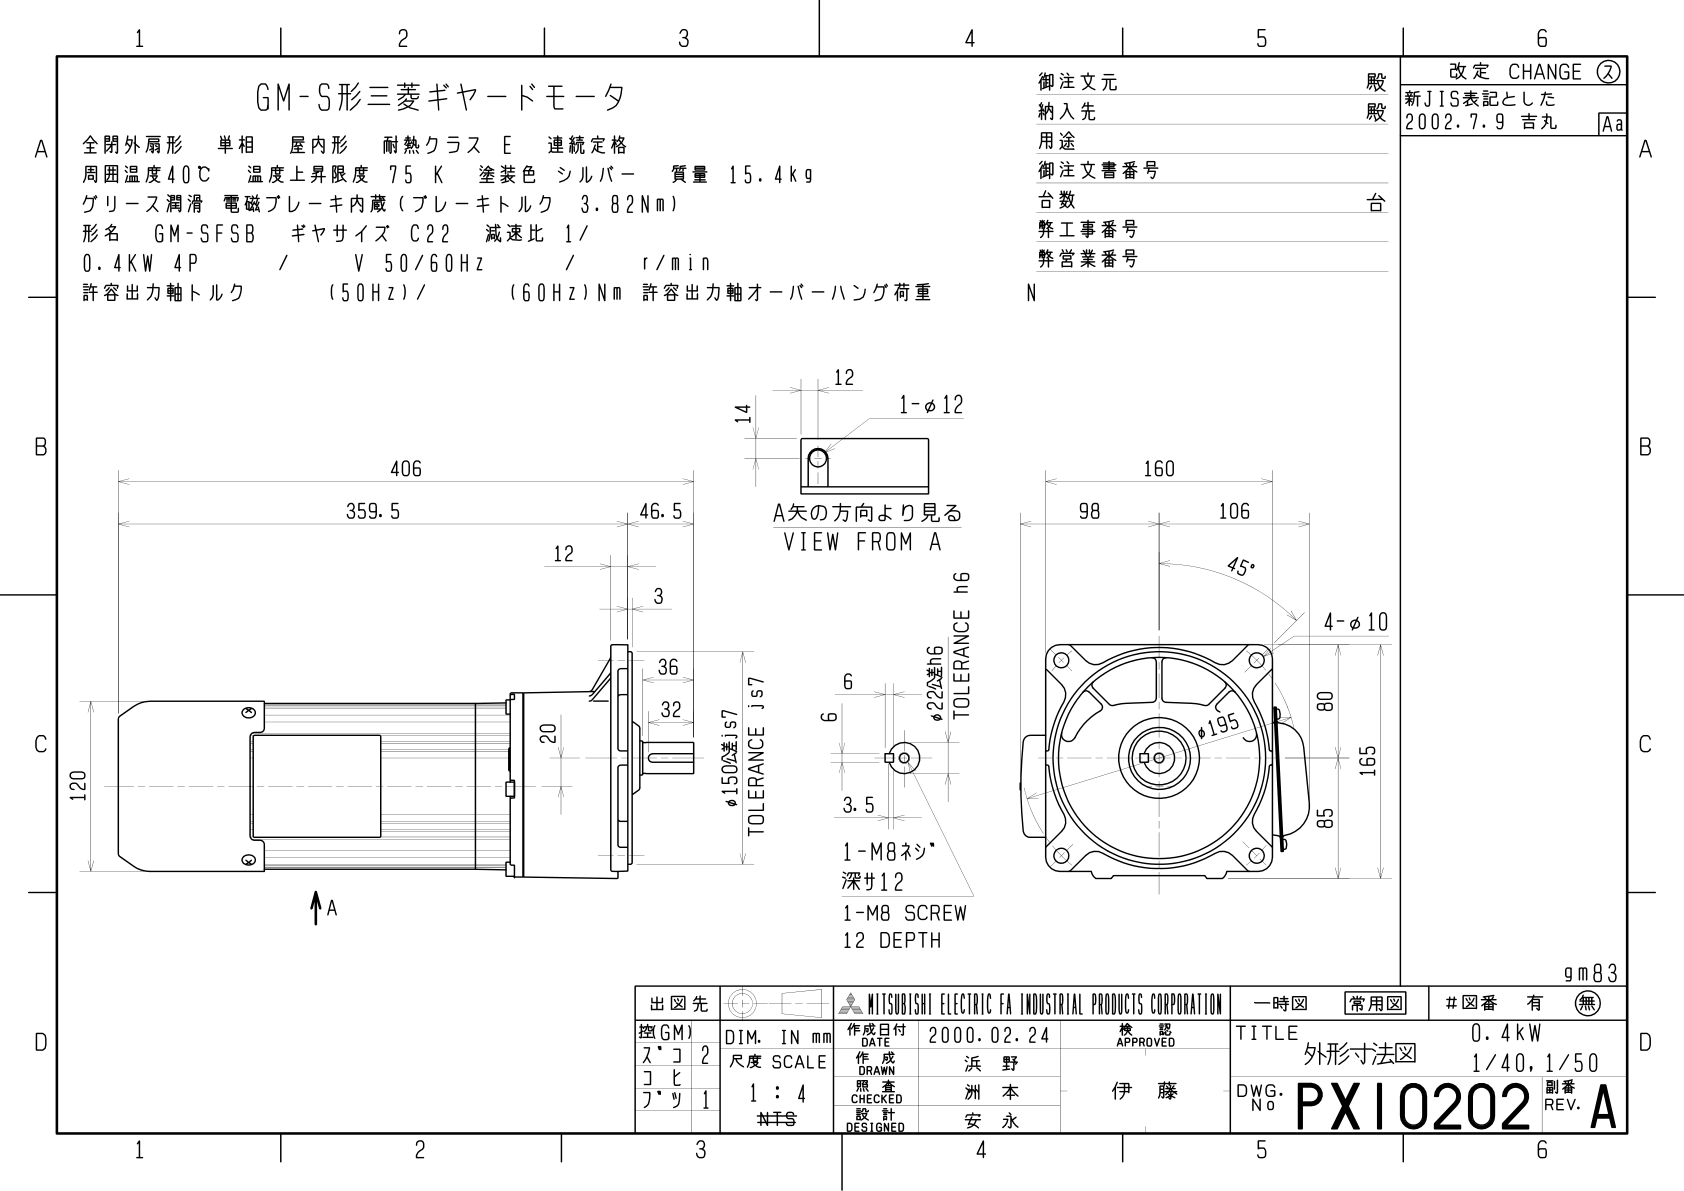GM_S_屋内＿単相_フランジ: (17, 6, 1684, 1191)
